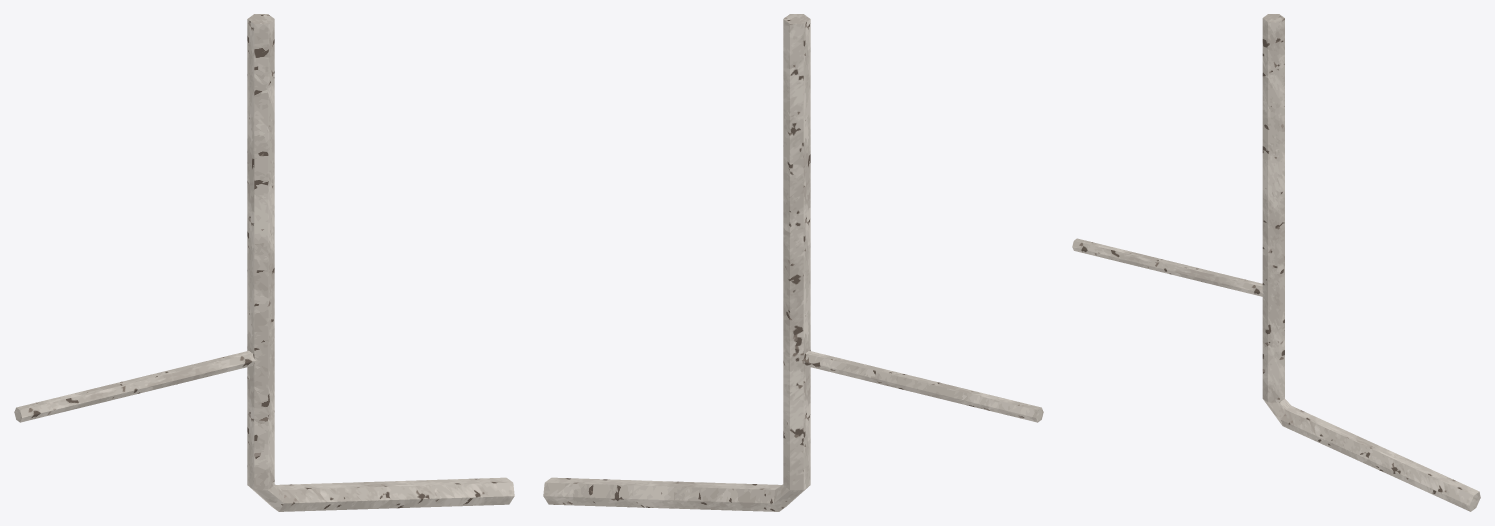
The model's file is viga3.glb.
3 renders of one model, left to right at view 1: azimuth 30°, elevation 25°; view 2: azimuth 150°, elevation 25°; view 3: azimuth 330°, elevation 25°, orthographic. The views are drawn at different scales.
Parts seen in each view (by area): view 1: Antenna_broken_1; view 2: Antenna_broken_1; view 3: Antenna_broken_1.
Part boxes in pixels (x1,y1,x2,y2): Antenna_broken_1: [14, 14, 514, 511]; Antenna_broken_1: [543, 14, 1043, 511]; Antenna_broken_1: [1072, 14, 1480, 511].
Bounding box in the file's own units: 4.79 × 5.05 × 0.2307.
1 material, 1 textured.
